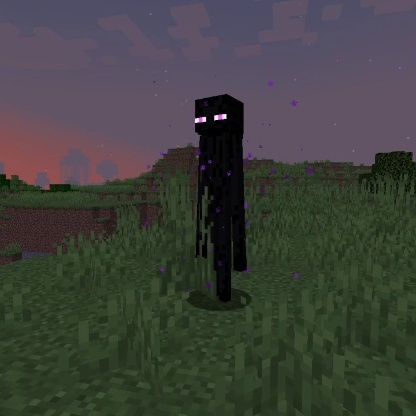enderman: (191, 91, 251, 304)
